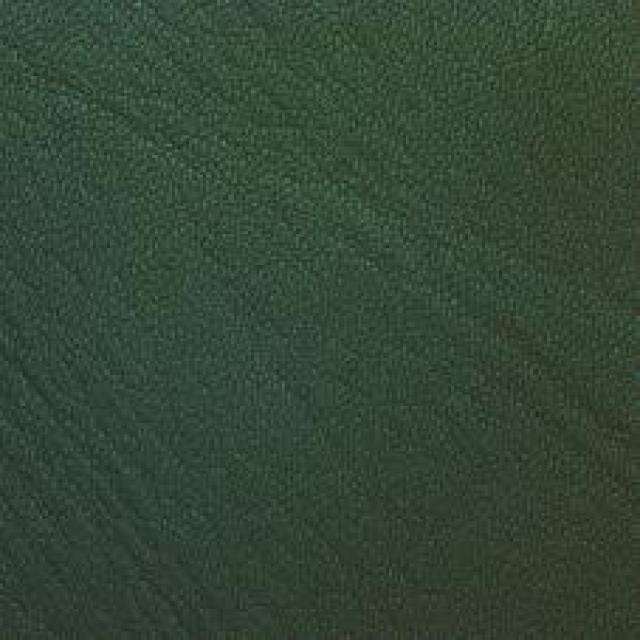Growth Marks: (395, 240, 626, 457), (32, 346, 188, 592), (47, 30, 297, 150)
